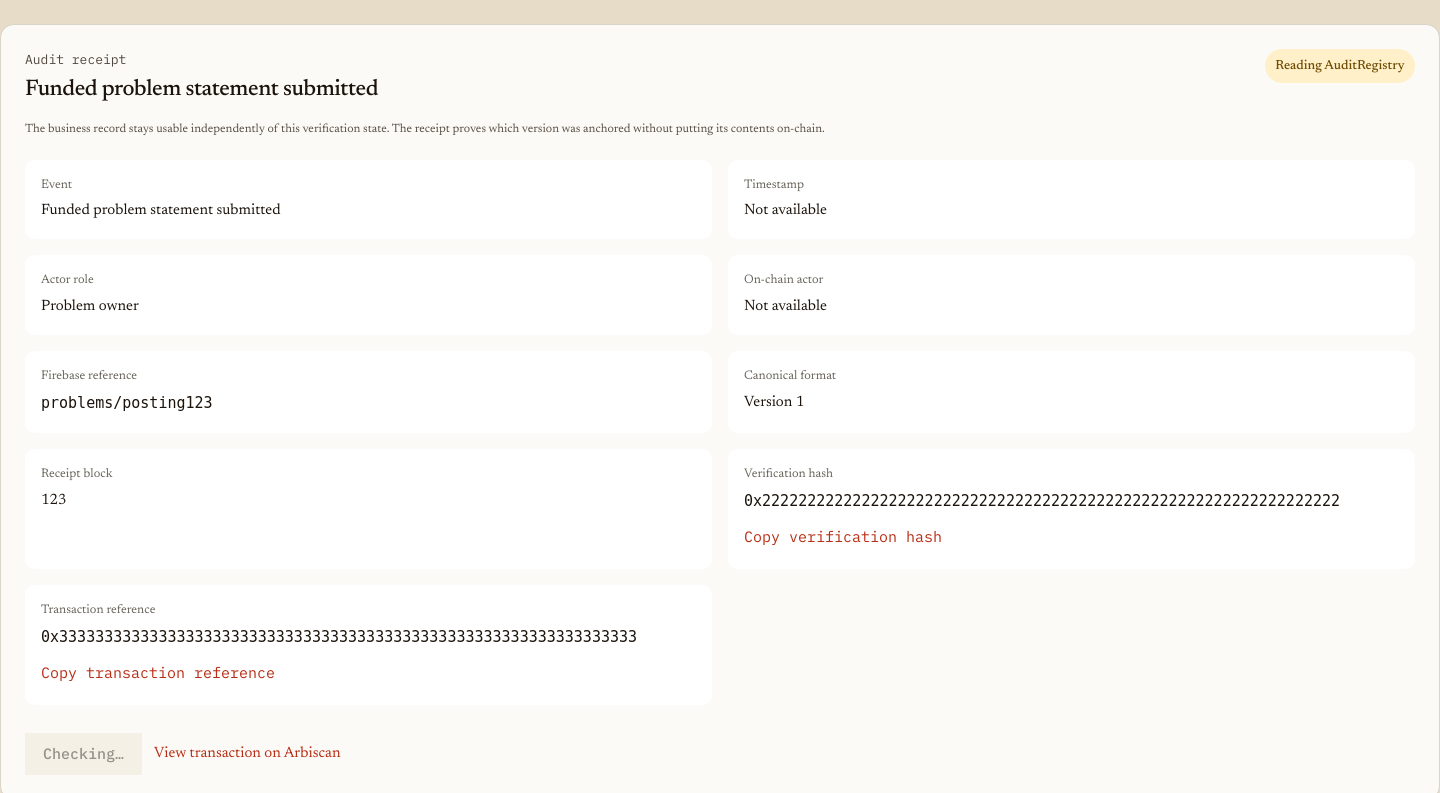
Test case: AuditReceipt › [QCDAO-77] copies the verification hash
Click the button "Copy verification hash" at (843, 537), box [744,521,942,553]
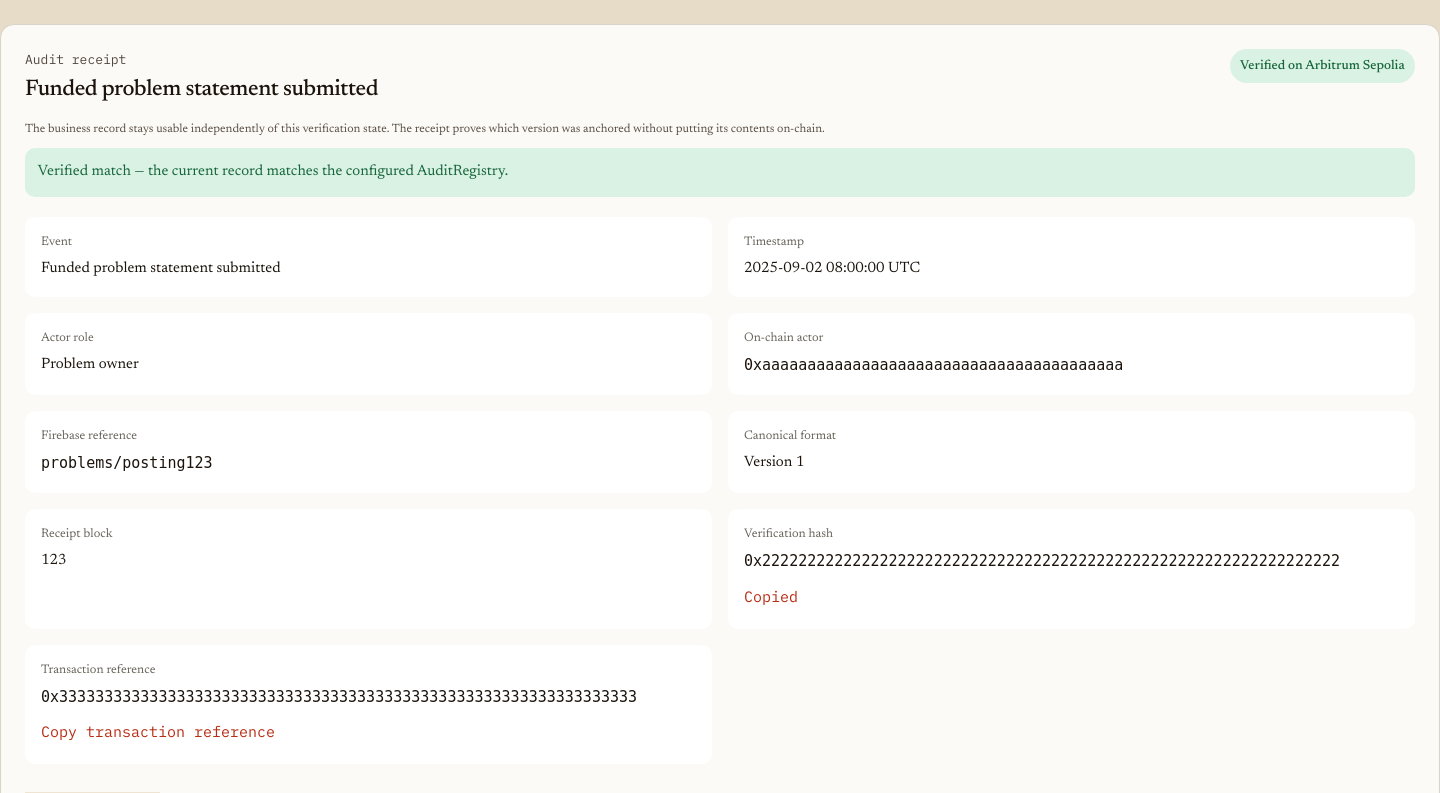
Expected: the button "Copied" is shown, [744,581,798,613]
